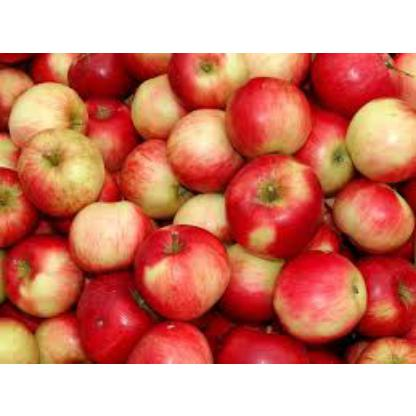apple: (230, 157, 336, 254), (270, 254, 368, 338), (138, 223, 232, 306), (63, 268, 157, 348), (216, 236, 306, 318), (16, 126, 99, 214), (62, 199, 148, 271), (162, 106, 242, 182), (3, 235, 73, 310), (10, 80, 90, 144), (118, 134, 182, 214), (128, 70, 200, 138), (228, 82, 310, 141), (314, 52, 400, 108), (346, 102, 414, 172), (340, 176, 414, 236), (170, 52, 240, 108), (127, 324, 221, 358), (66, 52, 136, 96)
